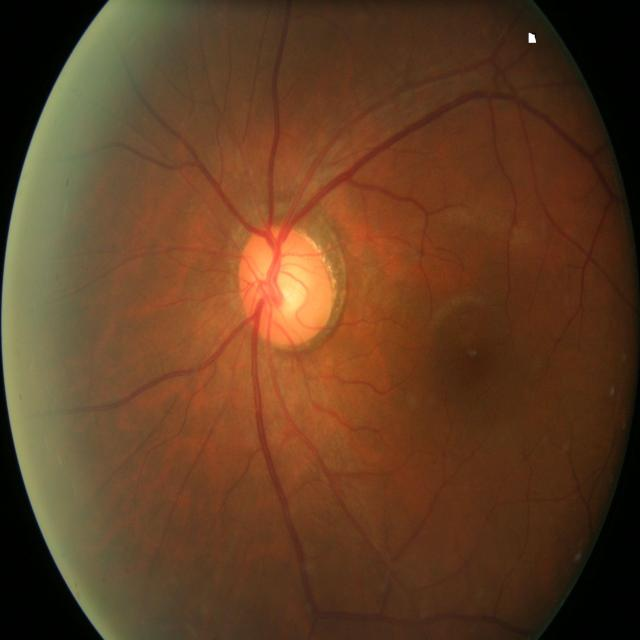OC: (260, 252, 312, 316)
OD: (238, 224, 336, 348)
